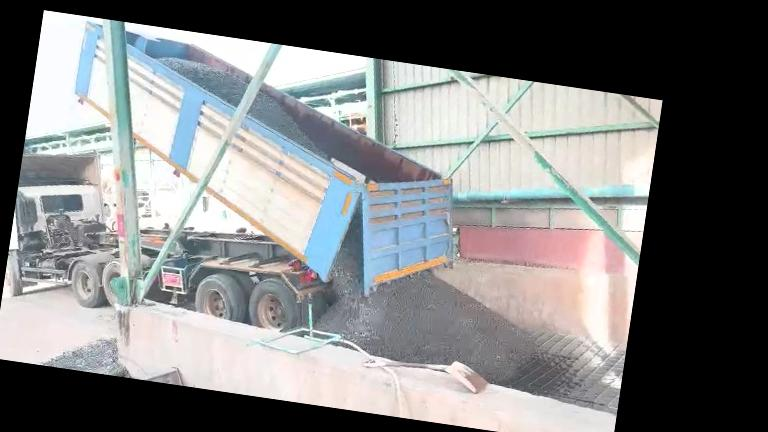gravel: (317, 211, 534, 382), (248, 92, 328, 159), (158, 58, 247, 106), (43, 339, 129, 377)
